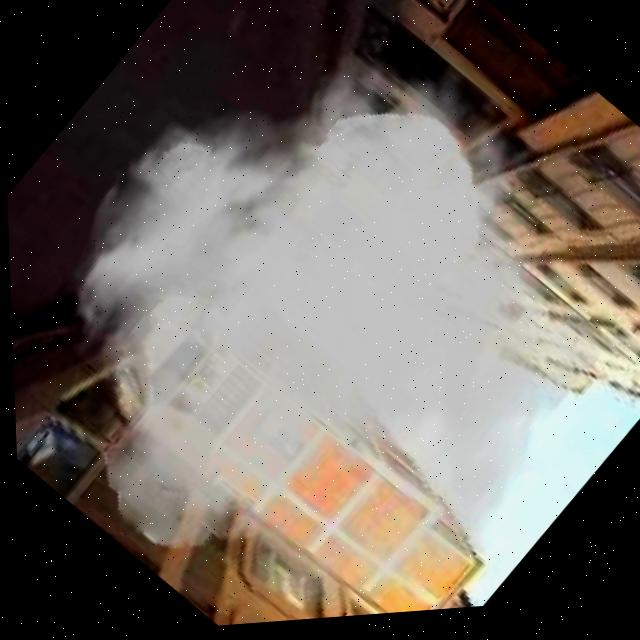Smoke: (9, 0, 640, 627)
